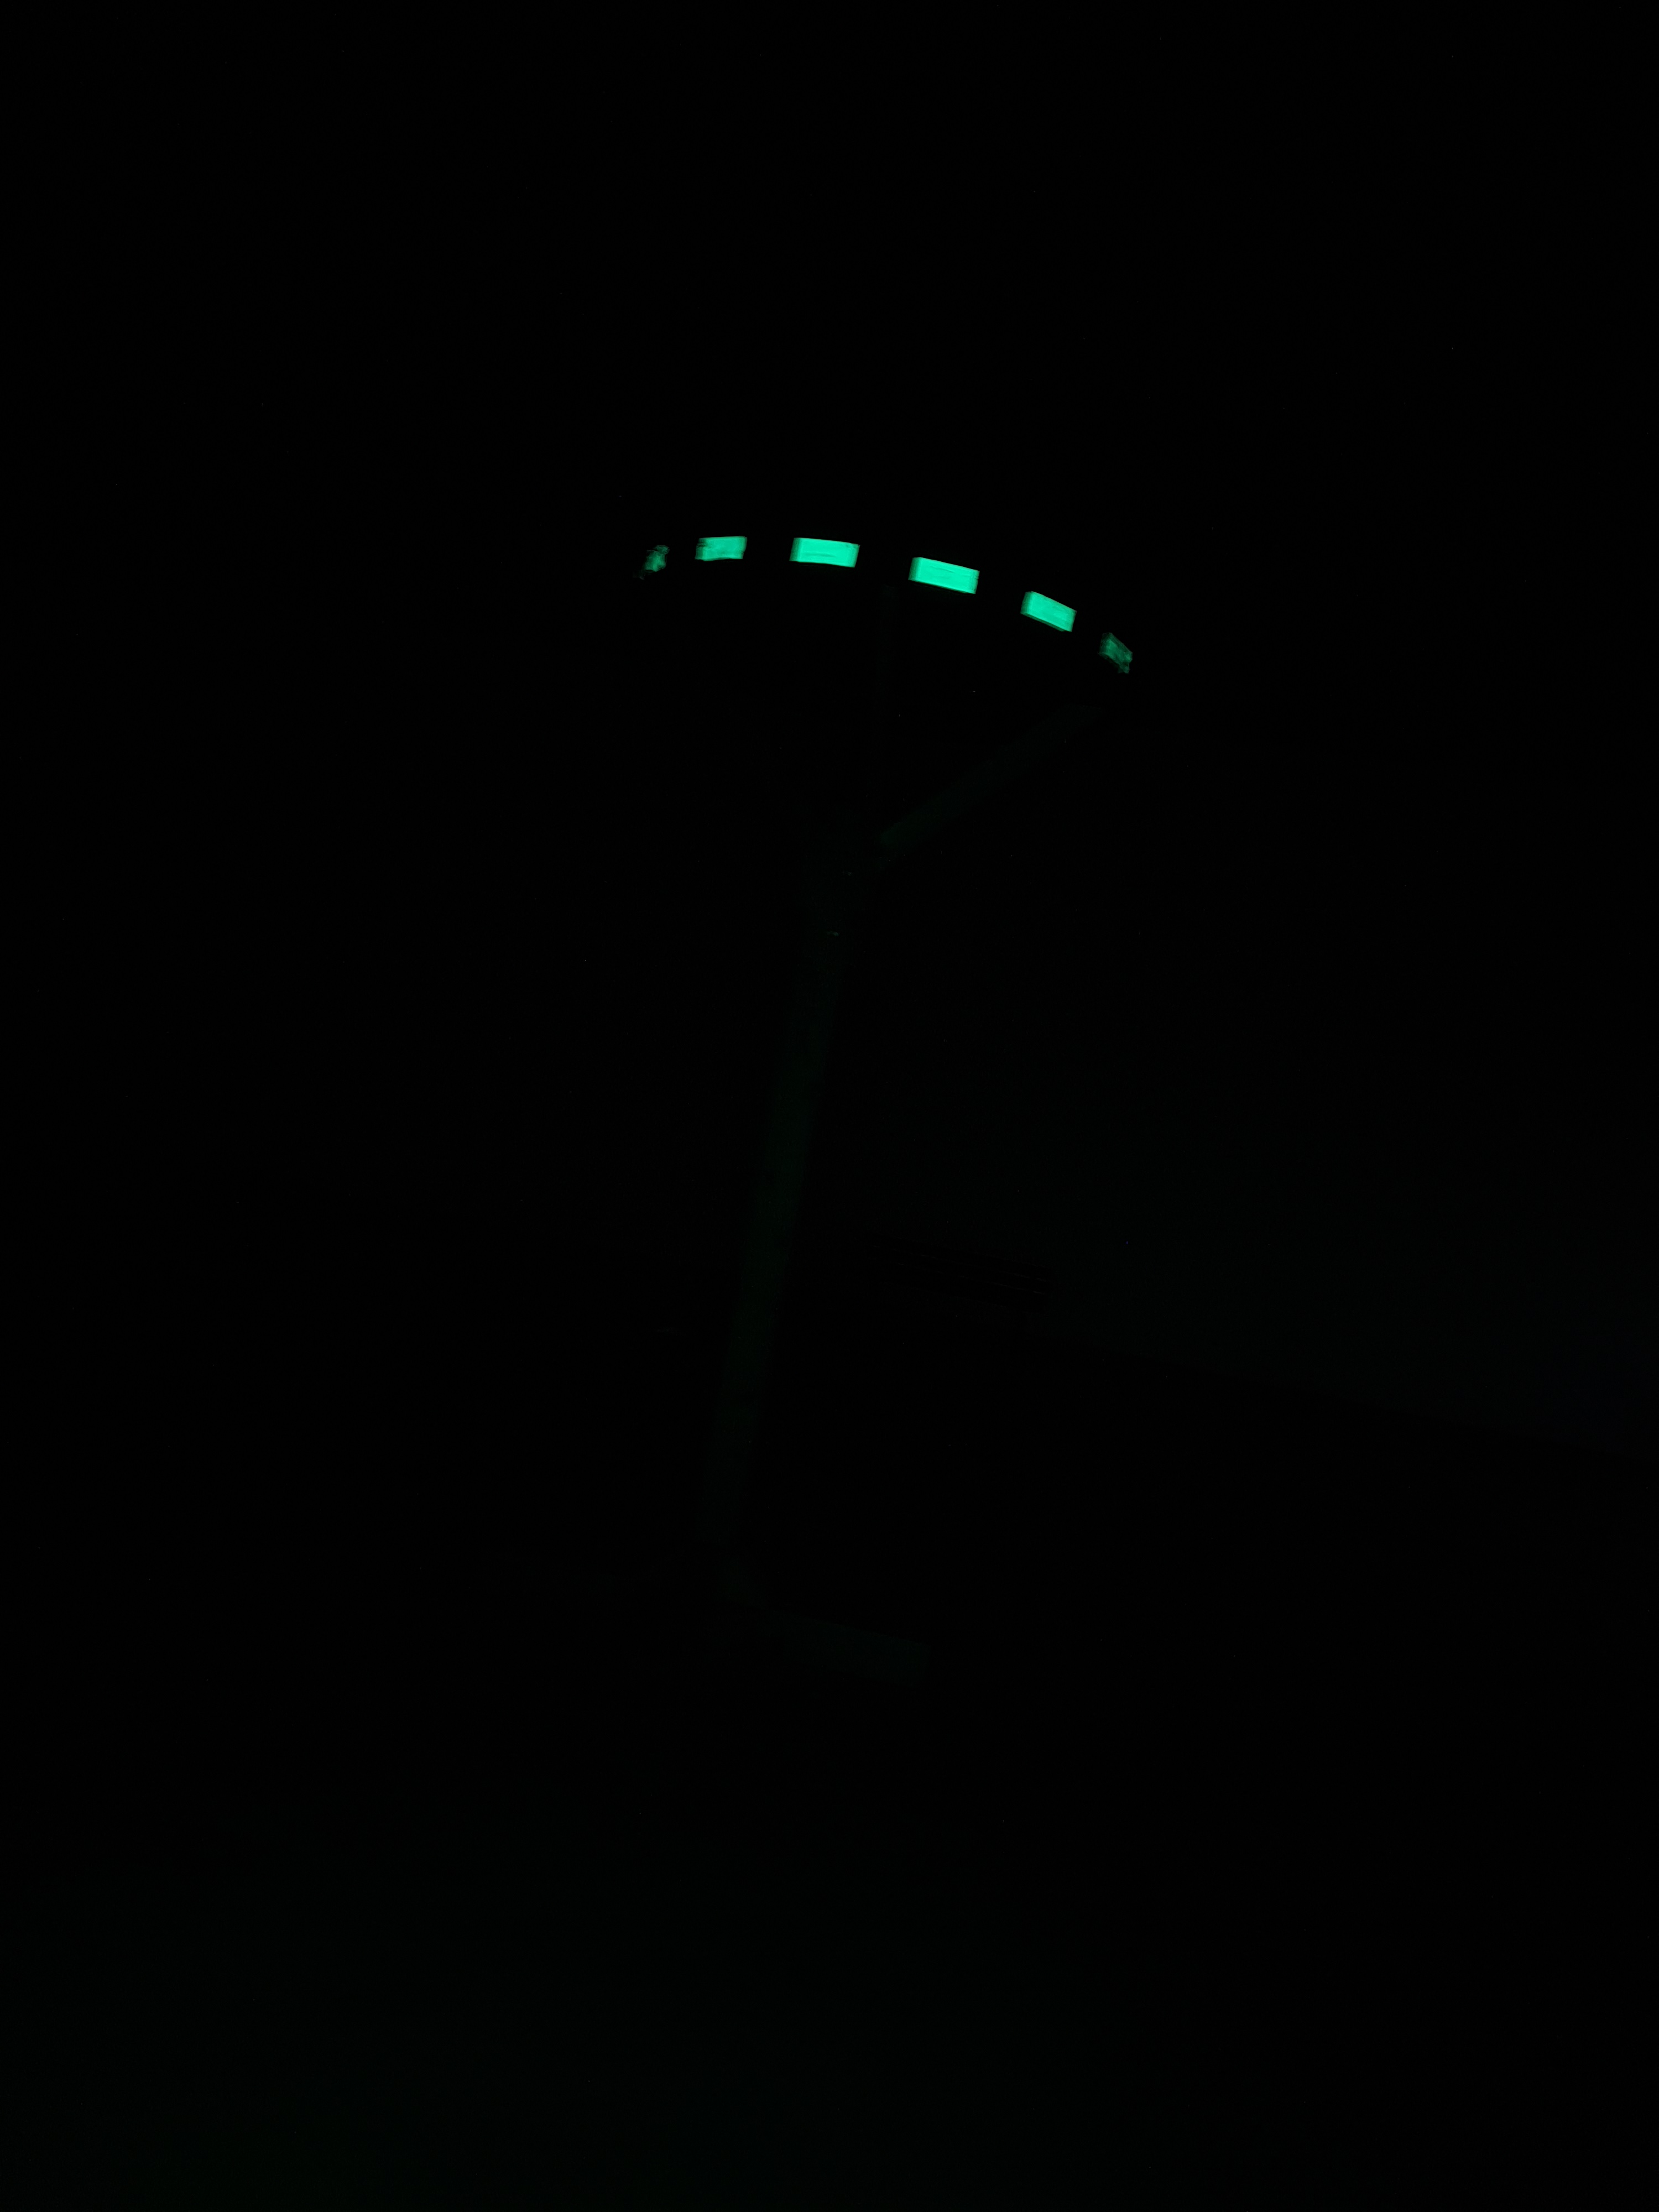hoop: (638, 519, 1140, 690)
